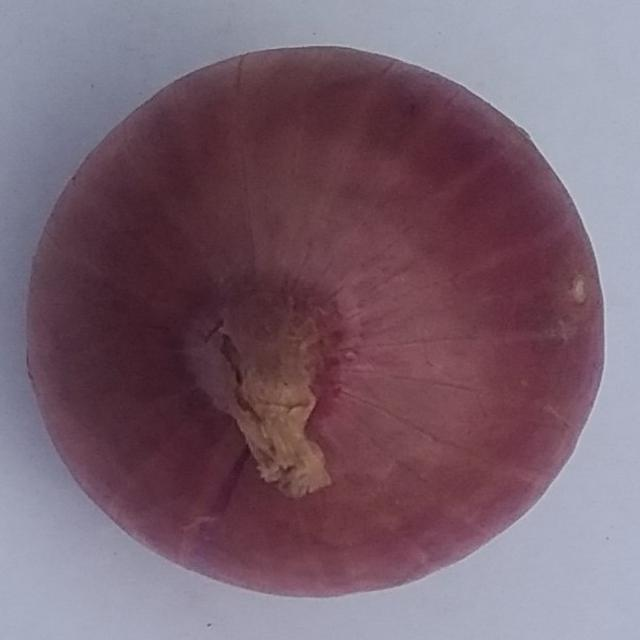onion: (20, 44, 610, 596)
